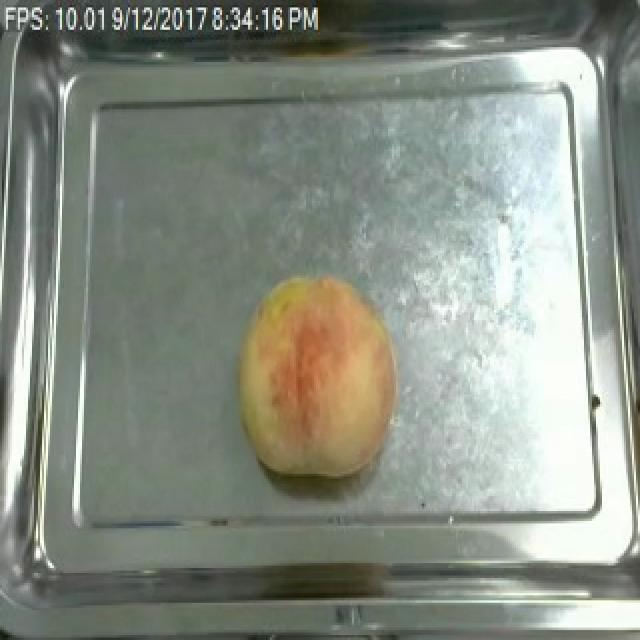Fruit: (228, 265, 410, 484)
